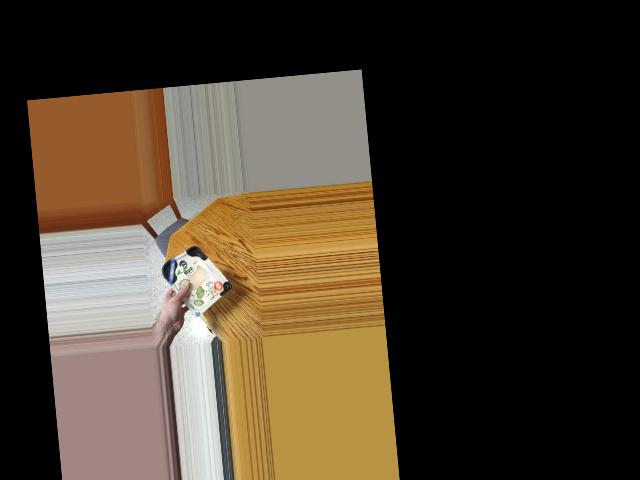cheese: (156, 246, 229, 308)
